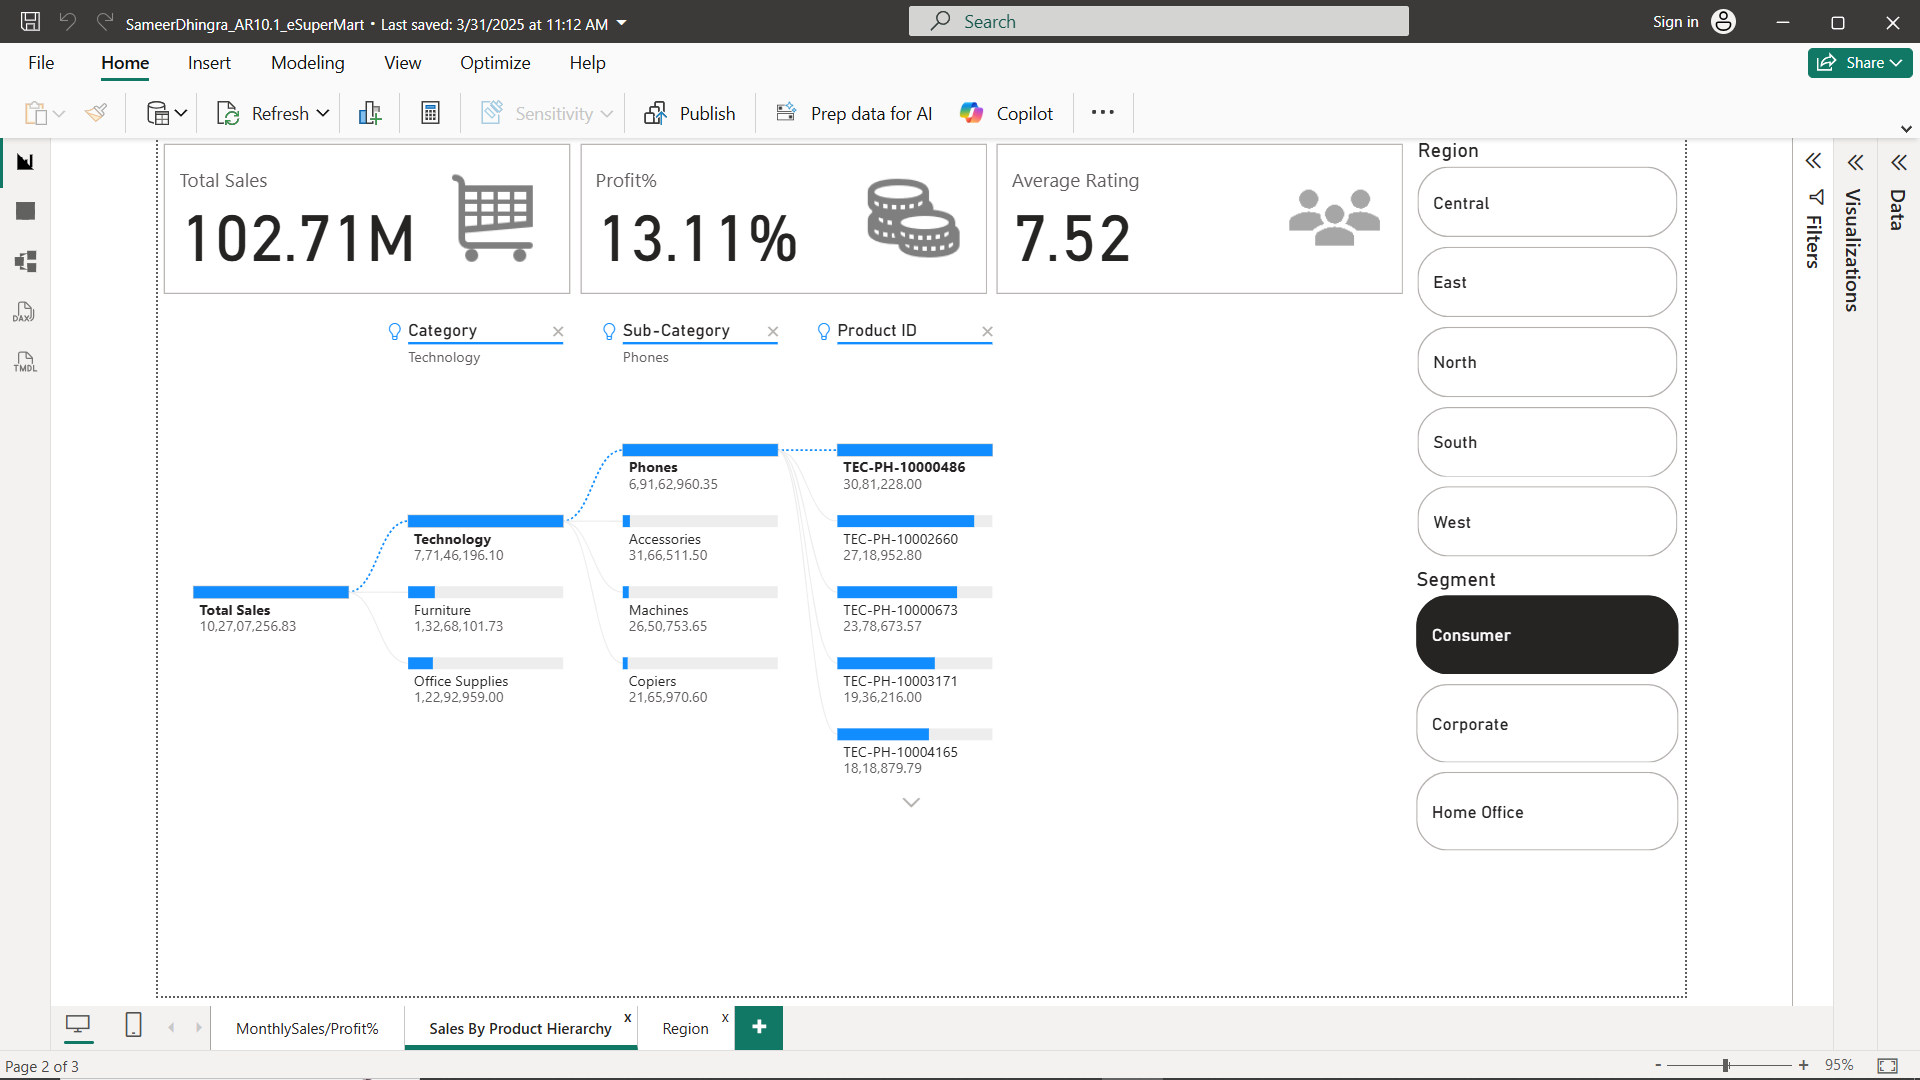

What the dashboard file says about the page in this screenshot:
{"tool":"powerbi","page":{"name":"Sales By Product Hierarchy","canvas":[1280,720],"ordinal":1},"visuals":[{"type":"cardVisual","fields":{"Data":["_Measures (2).Total Sales","_Measures (2).Profit%","_Measures (2).Average Rating"]},"box":[0,0,1050,136.2],"z":0},{"type":"advancedSlicerVisual","fields":{"Values":["eSuperMart - SalesTable.Region"]},"box":[1051.2,0,228.8,360],"z":1000},{"type":"advancedSlicerVisual","fields":{"Values":["eSuperMart - SalesTable.Segment"]},"box":[1050,360,230,243.8],"z":2000},{"type":"decompositionTreeVisual","fields":{"Analyze":["_Measures (2).Total Sales"],"ExplainBy":["eSuperMart - SalesTable.Category","eSuperMart - SalesTable.Sub-Category","eSuperMart - SalesTable.Product ID"]},"box":[0,136.2,1050,467.5],"z":3000}]}

Visuals, with their boxes on the page's 1280x720 design canvas (x1, y1, x2, y2). These are canvas units, not pixel positions in the 1920x1080 screenshot, which may show the page scaled, cropped or inside an application window:
cardVisual - _Measures (2).Total Sales x _Measures (2).Profit%: 0, 0, 1050, 136
advancedSlicerVisual - eSuperMart - SalesTable.Region: 1051, 0, 1280, 360
advancedSlicerVisual - eSuperMart - SalesTable.Segment: 1050, 360, 1280, 604
decompositionTreeVisual - _Measures (2).Total Sales x eSuperMart - SalesTable.Category: 0, 136, 1050, 604
